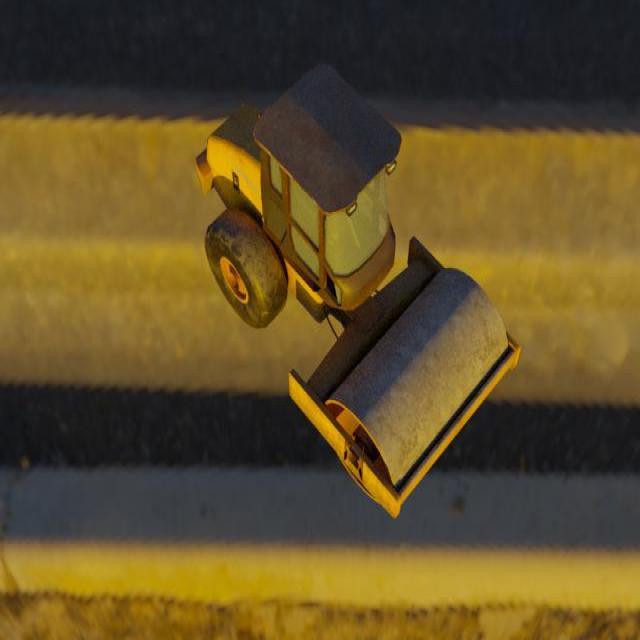Roller: (195, 62, 521, 518)
